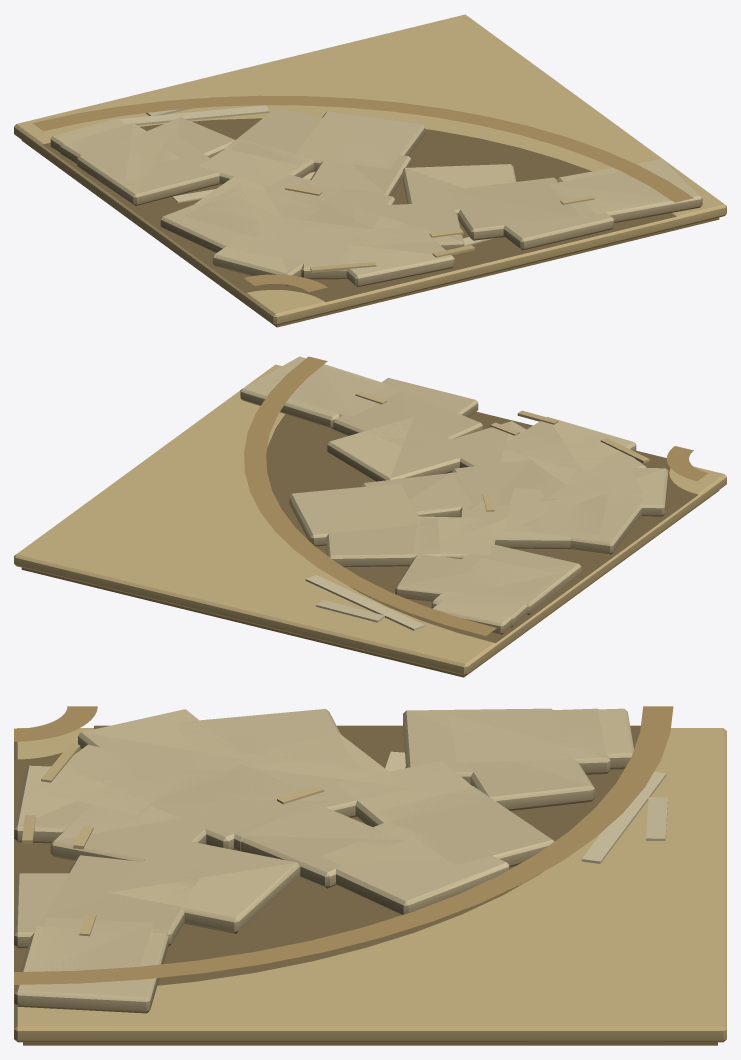
Rendered from road-sand-corner.glb.
3 renders of one model, top to bottom at view 1: azimuth 30°, elevation 25°; view 2: azimuth 150°, elevation 25°; view 3: azimuth 270°, elevation 25°, orthographic. The views are drawn at different scales.
Visible parts, largest first — view 1: road_sand_corner; view 2: road_sand_corner; view 3: road_sand_corner.
Boxes of the visible parts, left/top/right/bottom form: road_sand_corner: left=14, top=14, right=726, bottom=327; road_sand_corner: left=14, top=356, right=726, bottom=677; road_sand_corner: left=14, top=706, right=726, bottom=1045.
Bounding box in the file's own units: 4 × 0.2671 × 4.
